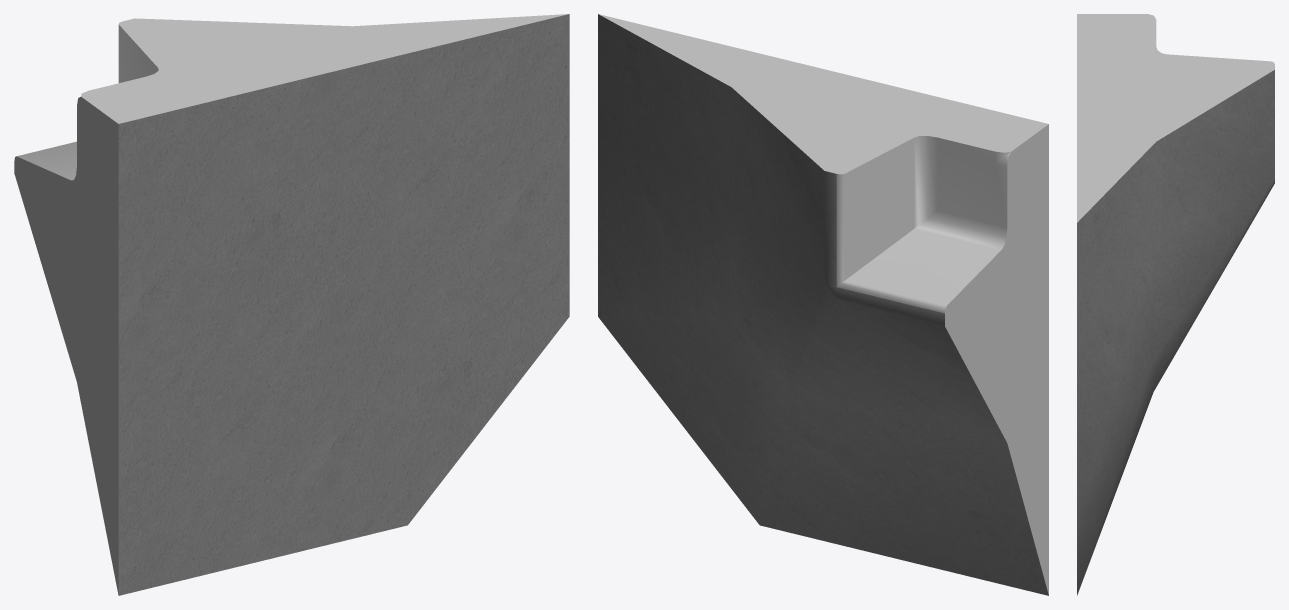
The model's file is public_seat_corner.fbx.
3 views of the same model, side by side, from view 1: azimuth 30°, elevation 25°; view 2: azimuth 150°, elevation 25°; view 3: azimuth 270°, elevation 25° (orthographic). The views are drawn at different scales.
Visible parts, largest first — view 1: public_seat_corner; view 2: public_seat_corner; view 3: public_seat_corner.
Boxes of the visible parts, x1,y1,x2,y2 form: public_seat_corner: [14, 14, 569, 595]; public_seat_corner: [598, 14, 1048, 595]; public_seat_corner: [1077, 14, 1274, 595].
Bounding box in the file's own units: 1.5 × 1.5 × 0.6.
